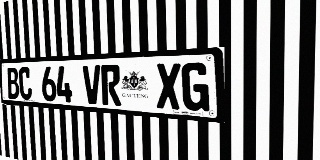4: (55, 66, 72, 103)
6: (41, 66, 57, 102)
B: (6, 67, 20, 99)
C: (18, 67, 32, 100)
G: (181, 62, 209, 112)
R: (101, 65, 121, 106)
V: (83, 65, 102, 105)
X: (156, 63, 181, 110)
